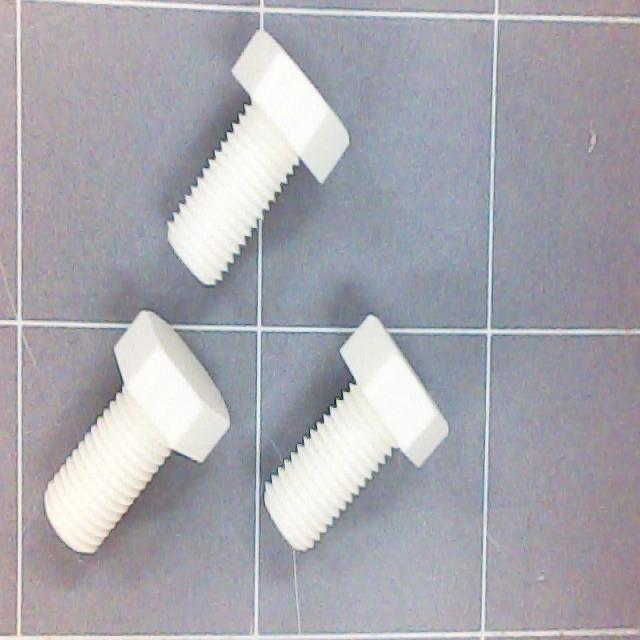bolts: (0, 305, 256, 579), (126, 26, 374, 308), (207, 311, 464, 557)
